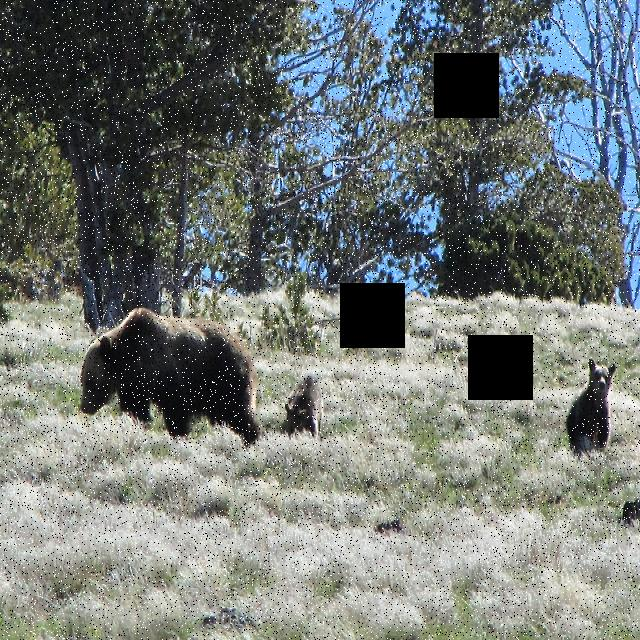Bear: (74, 300, 268, 460), (567, 346, 618, 461), (286, 370, 321, 436)
